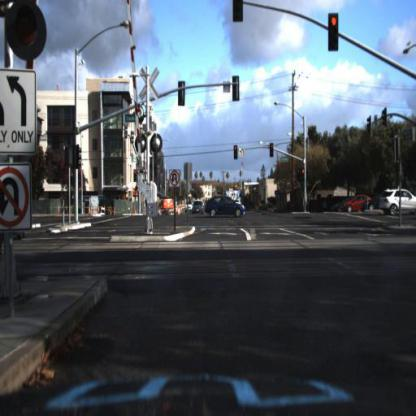car: (202, 194, 252, 223), (363, 192, 406, 215), (345, 193, 375, 216), (360, 192, 381, 212), (347, 191, 363, 216), (191, 200, 206, 220), (184, 200, 193, 220)
trafficLight: (5, 1, 47, 61), (233, 1, 245, 23)
trafficLight-Red: (328, 11, 340, 57), (300, 162, 308, 184), (232, 142, 240, 163), (269, 138, 276, 162)
